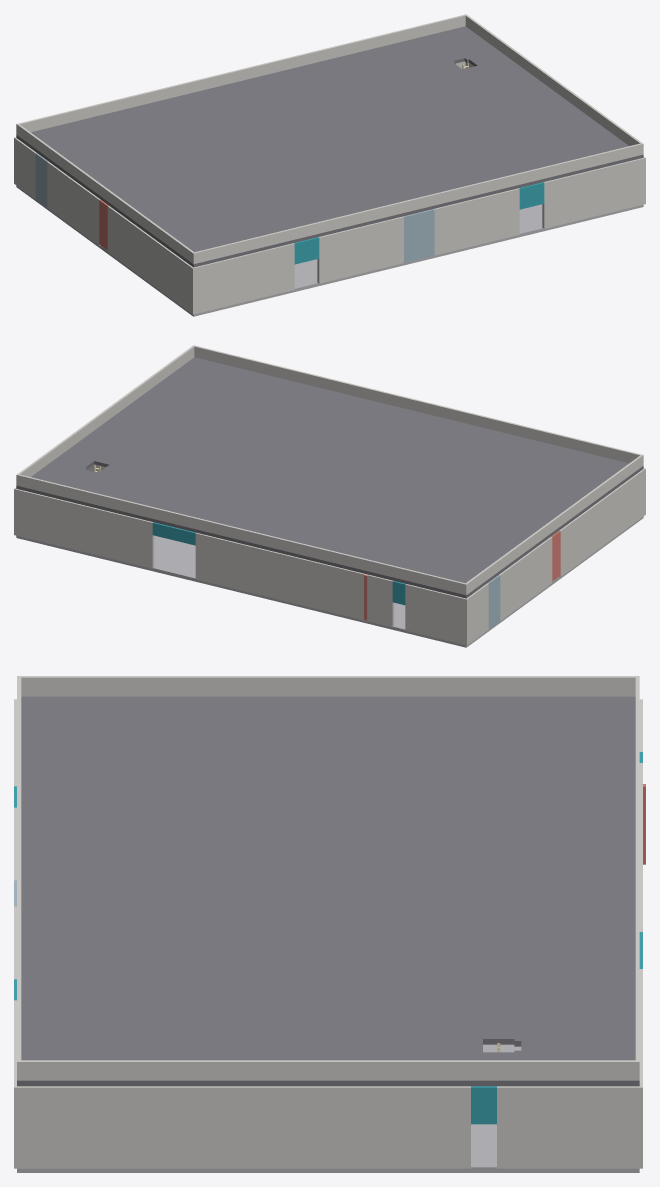
File: casino_a01.glb
3 renders of one model, top to bottom at view 1: azimuth 30°, elevation 25°; view 2: azimuth 150°, elevation 25°; view 3: azimuth 270°, elevation 25°, orthographic. The views are drawn at different scales.
Visible parts, largest first — view 1: slab_1_t3_6, slab_1_t1_1, slab_1_t1_2, slab_1_t1_6, slab_1_t3_1, slab_1_t3_2, slab_1_t3_7, slab_1_t4_1, slab_1_t4_5, slab_1_t4_6, slab_1_t1_5, slab_1_t1_7 (+97 smaller); view 2: slab_1_t2_6, slab_1_t1_1, slab_1_t1_5, slab_1_t1_6, slab_1_t2_1, slab_1_t2_2, slab_1_t2_7, slab_1_t4_1, slab_1_t4_2, slab_1_t4_6, slab_1_t1_7, slab_1_t3_3 (+96 smaller); view 3: slab_1_t3_1, slab_1_t3_3, slab_1_t3_4, slab_1_t2_1, slab_1_t2_3, slab_1_t2_4, slab_1_t3_2, slab_1_t2_2, slab_1_t1_1, slab_1_t1_2, slab_1_t1_3, slab_1_t1_4 (+71 smaller).
Part boxes in pixels (box(x1,y1,x2,y2)): slab_1_t3_6: box(376, 92, 454, 126); slab_1_t1_1: box(185, 196, 263, 230); slab_1_t1_2: box(235, 184, 313, 218); slab_1_t1_6: box(435, 135, 513, 169); slab_1_t3_1: box(126, 153, 204, 187); slab_1_t3_2: box(176, 141, 254, 174); slab_1_t3_7: box(426, 80, 504, 113); slab_1_t4_1: box(96, 132, 174, 165); slab_1_t4_5: box(296, 83, 374, 116); slab_1_t4_6: box(346, 71, 424, 104); slab_1_t1_5: box(385, 148, 463, 181); slab_1_t1_7: box(485, 123, 563, 157); slab_1_t2_6: box(205, 423, 283, 457); slab_1_t1_1: box(485, 463, 563, 496); slab_1_t1_5: box(285, 414, 363, 447); slab_1_t1_6: box(235, 402, 313, 435); slab_1_t2_1: box(455, 484, 533, 518); slab_1_t2_2: box(405, 472, 483, 505); slab_1_t2_7: box(155, 411, 233, 444); slab_1_t4_1: box(396, 527, 474, 561); slab_1_t4_2: box(346, 515, 424, 549); slab_1_t4_6: box(146, 466, 224, 500); slab_1_t1_7: box(185, 389, 263, 423); slab_1_t3_3: box(326, 482, 404, 515); slab_1_t3_1: box(328, 737, 432, 780); slab_1_t3_3: box(328, 823, 432, 866); slab_1_t3_4: box(328, 866, 432, 909); slab_1_t2_1: box(224, 737, 328, 780); slab_1_t2_3: box(224, 823, 328, 866); slab_1_t2_4: box(224, 866, 328, 909); slab_1_t3_2: box(328, 780, 432, 823); slab_1_t2_2: box(224, 780, 328, 823); slab_1_t1_1: box(121, 737, 224, 780); slab_1_t1_2: box(121, 780, 224, 823); slab_1_t1_3: box(121, 823, 224, 866); slab_1_t1_4: box(121, 866, 224, 909).
Size of what is drawn, in the model's own units: 44.3 by 5.9 by 30.45.
